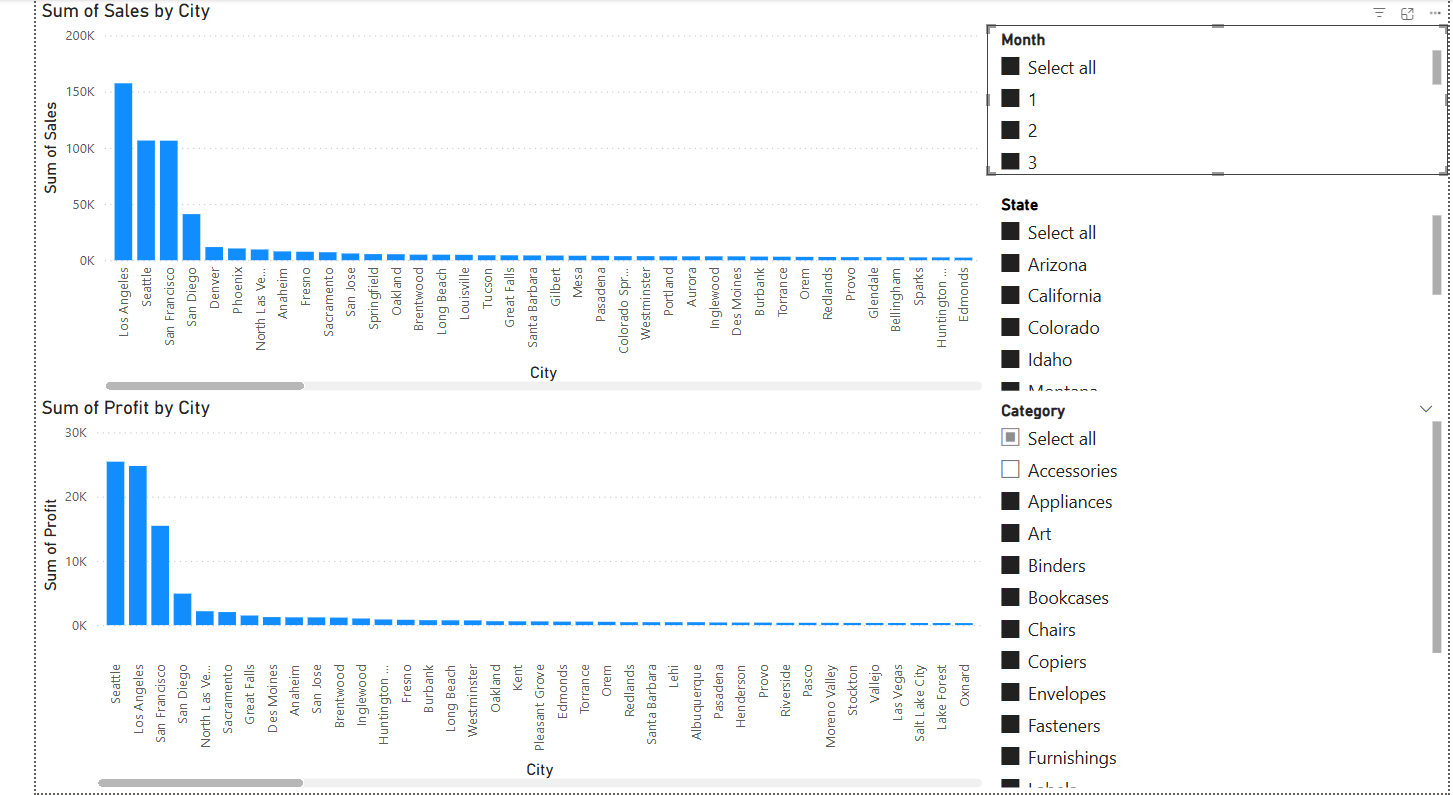

The page's visual inventory and layout, read from the dashboard file:
{"tool":"powerbi","page":{"name":"Cities_Sale &  Profit","canvas":[1280,720],"ordinal":1},"visuals":[{"type":"columnChart","fields":{"Y":["Sum(city_sales_cleaned.Sales)"],"Category":["city_sales_cleaned.City"]},"box":[0,0,862.7,359.9],"z":0},{"type":"slicer","fields":{"Values":["city_sales_cleaned.Month"]},"box":[862.7,23.3,417.3,136.2],"z":1000},{"type":"columnChart","fields":{"Y":["Sum(city_sales_cleaned.Profit)"],"Category":["city_sales_cleaned.City"]},"box":[0,359.9,862.7,359.9],"z":2000},{"type":"slicer","fields":{"Values":["city_sales_cleaned.State"]},"box":[862.7,173.1,417.3,186.7],"z":3000},{"type":"slicer","fields":{"Values":["city_sales_cleaned.Category"]},"box":[862.7,359.9,417.3,359.9],"z":4000}]}

Visuals, with their boxes in screenshot pixels (x1, y1, x2, y2), scaled from the page's 1280x720 canvas onto the 1453x795 screenshot:
columnChart - Sum(city_sales_cleaned.Sales) x city_sales_cleaned.City: <bbox>0, 0, 979, 397</bbox>
slicer - city_sales_cleaned.Month: <bbox>979, 26, 1452, 176</bbox>
columnChart - Sum(city_sales_cleaned.Profit) x city_sales_cleaned.City: <bbox>0, 397, 979, 794</bbox>
slicer - city_sales_cleaned.State: <bbox>979, 191, 1452, 397</bbox>
slicer - city_sales_cleaned.Category: <bbox>979, 397, 1452, 794</bbox>
